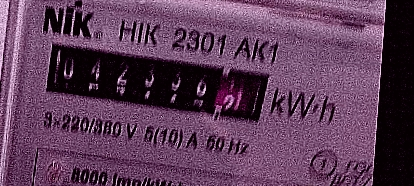0: (61, 52, 76, 82)
2: (112, 58, 132, 86)
3: (139, 60, 157, 90), (168, 63, 184, 92)
4: (87, 55, 105, 83)
6: (193, 71, 210, 99)
screen: (33, 33, 278, 132)
